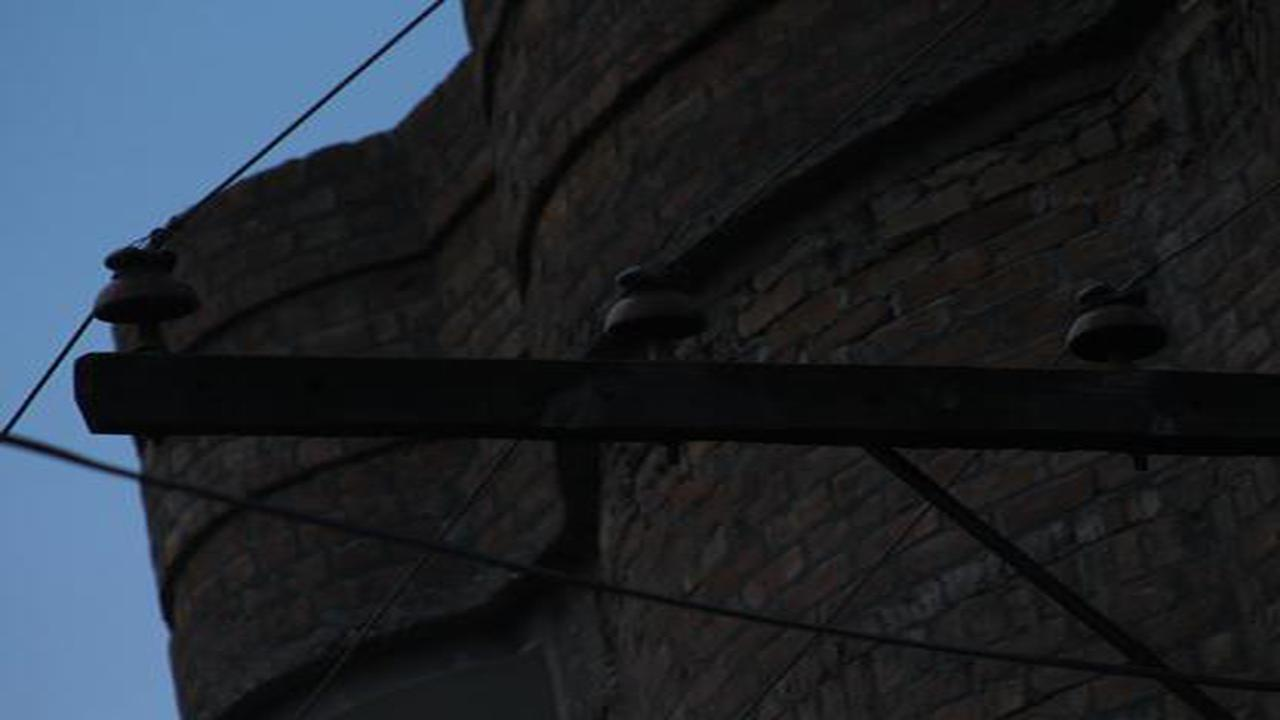insulator_pin: (595, 258, 716, 353), (1052, 270, 1176, 360), (89, 241, 204, 335)
